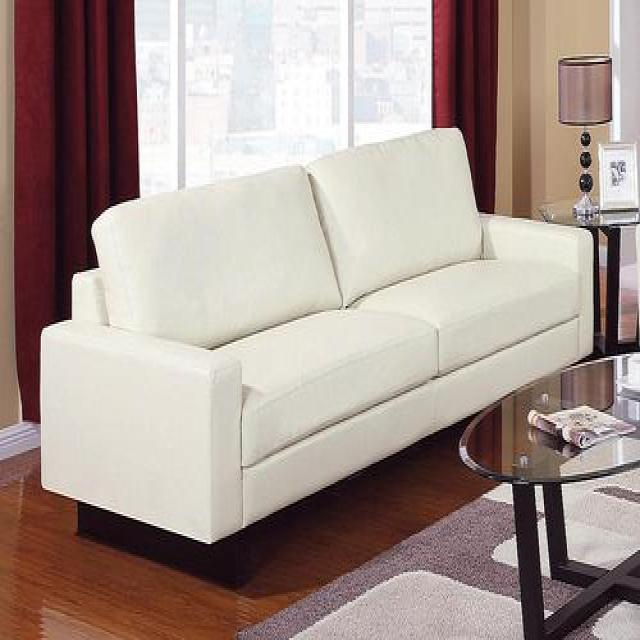sofa: (37, 125, 596, 586)
